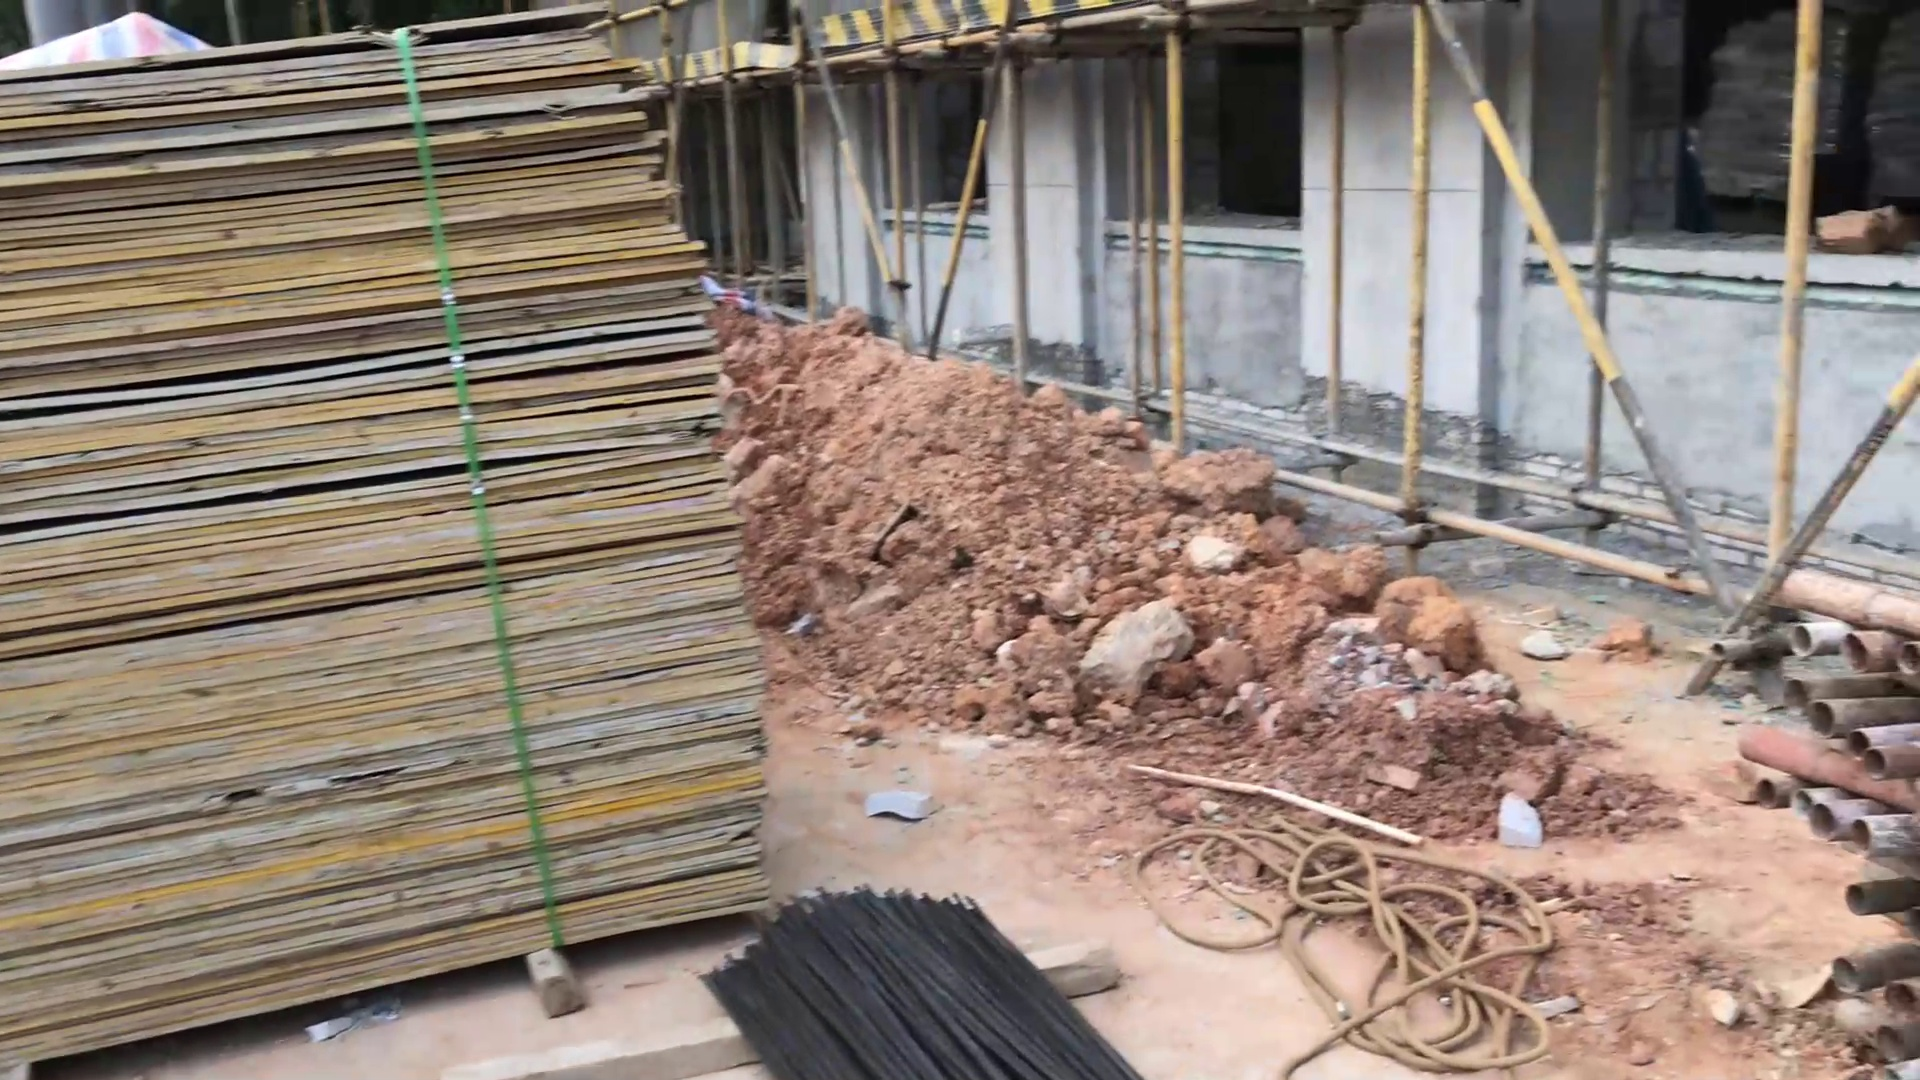board: (1, 18, 771, 1069)
rebar: (700, 869, 1146, 1080)
